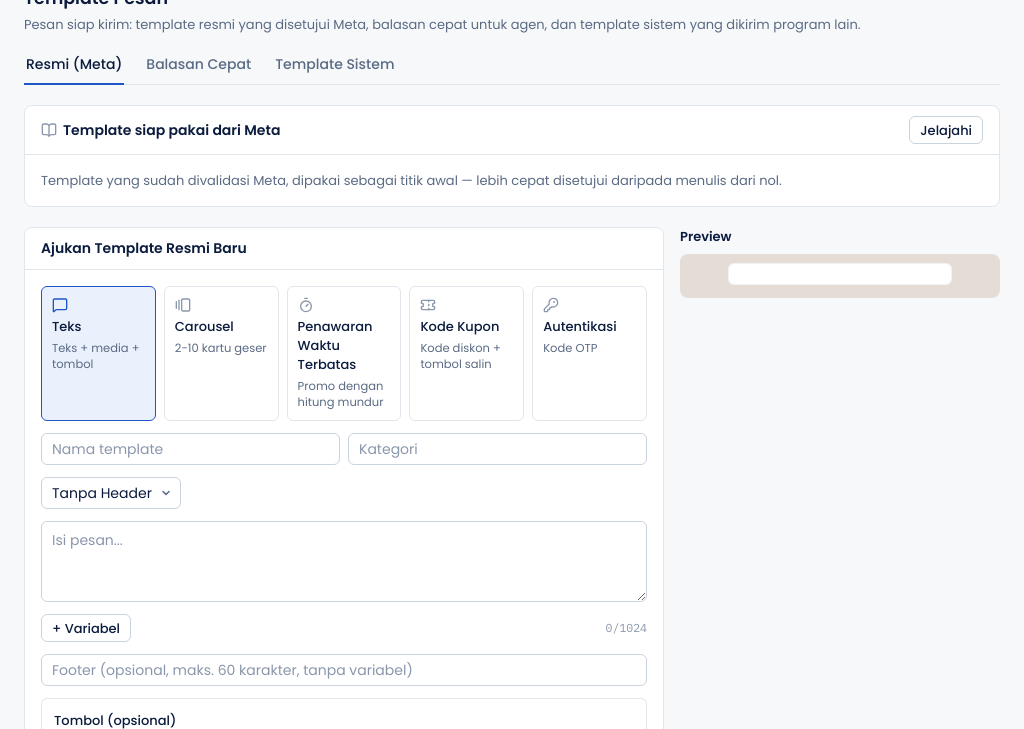
it: TemplatesPage — carousel builder › adds and removes cards, capping the "+ Kartu" action out of view at 10
Expected: the element named "Format template" is shown, [41, 286, 647, 421]
Click the text "Carousel" at x=204, y=326, box [175, 317, 234, 336]
(page scrolled)
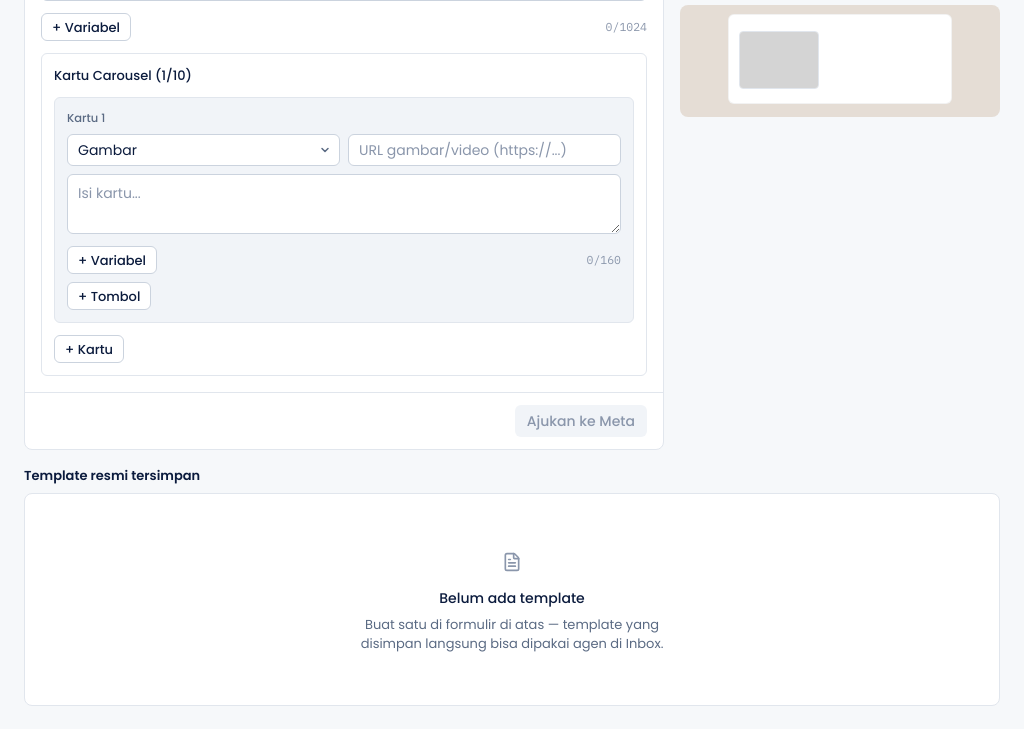
Click the button "+ Kartu" at x=89, y=349, box [54, 335, 124, 363]
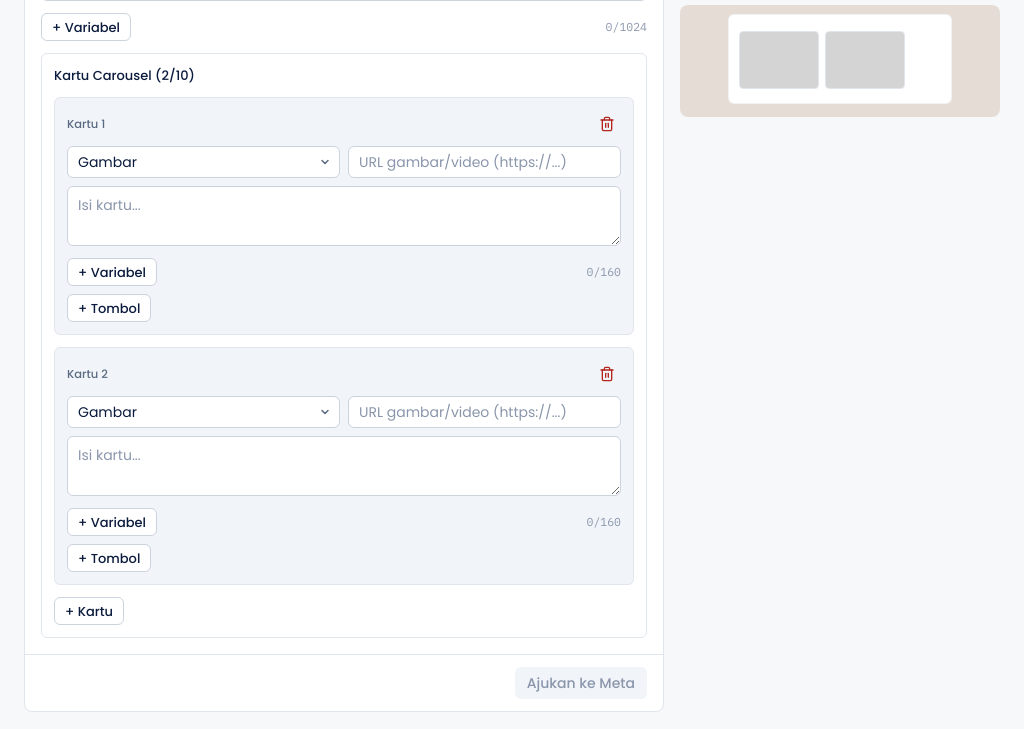
Expected: the heading "Kartu Carousel (2/10)" is shown, [54, 66, 195, 85]
Expected: the field named "URL media kartu 2" is shown, [348, 396, 621, 428]
Click the button named "Hapus kartu 2" at x=607, y=374, box [593, 360, 621, 388]
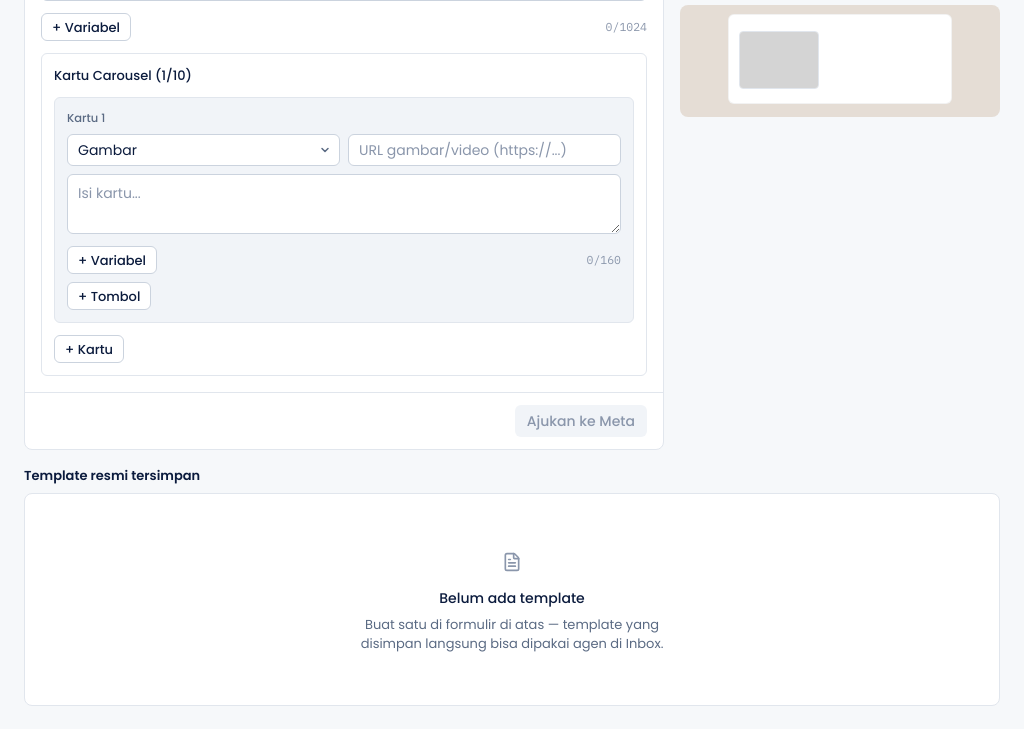
Expected: the heading "Kartu Carousel (1/10)" is shown, [54, 66, 192, 85]
